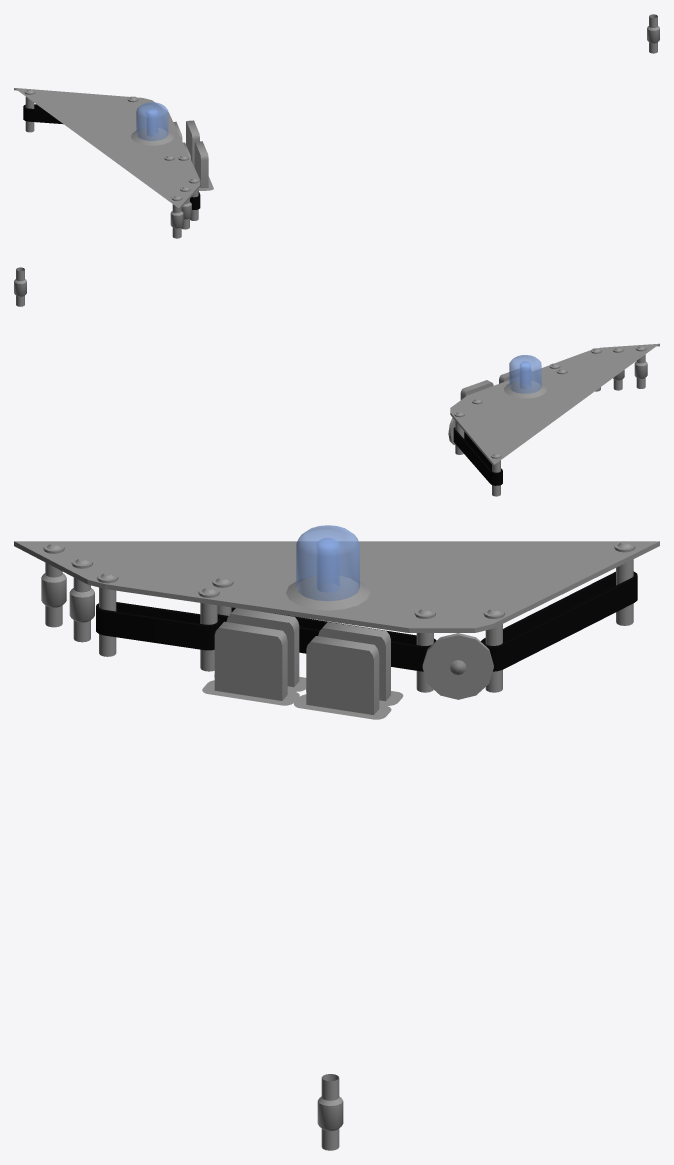
Rendered from Left Island.FBX.
3 views of the same model, one above another, from view 1: azimuth 30°, elevation 25°; view 2: azimuth 150°, elevation 25°; view 3: azimuth 270°, elevation 25° (orthographic). The views are drawn at different scales.
Visible parts, largest first — view 1: Left Island Cover, Strobe Light Cover, Strobe Light Base, Drop Target006, Rubber Rail007, Stopper Post003, Drop Target008, Stopper Post; view 2: Left Island Cover, Strobe Light Cover, Rubber Rail007, Strobe Light Base, Stopper Post003, Stopper Post; view 3: Left Island Cover, Rubber Rail007, Drop Target006, Drop Target008, Strobe Light Cover, Rubber Rail006, Shield Target003, Strobe Light Base, Rubber Rail008, Drop Target002, Drop Target004, Stopper Post003 (+3 smaller).
Part boxes in pixels (x1=…): Left Island Cover: x1=14, y1=88, x2=200, y2=210; Strobe Light Cover: x1=136, y1=102, x2=168, y2=140; Strobe Light Base: x1=131, y1=128, x2=173, y2=145; Drop Target006: x1=194, y1=141, x2=208, y2=188; Rubber Rail007: x1=23, y1=104, x2=63, y2=124; Stopper Post003: x1=647, y1=14, x2=659, y2=53; Drop Target008: x1=186, y1=120, x2=199, y2=167; Stopper Post: x1=170, y1=204, x2=183, y2=238; Left Island Cover: x1=450, y1=343, x2=659, y2=466; Strobe Light Cover: x1=509, y1=355, x2=541, y2=393; Rubber Rail007: x1=453, y1=427, x2=502, y2=485; Strobe Light Base: x1=504, y1=381, x2=546, y2=398; Stopper Post003: x1=14, y1=267, x2=26, y2=306; Stopper Post: x1=634, y1=354, x2=647, y2=388; Left Island Cover: x1=14, y1=541, x2=659, y2=632; Rubber Rail007: x1=480, y1=571, x2=637, y2=671; Drop Target006: x1=214, y1=621, x2=287, y2=700; Drop Target008: x1=306, y1=636, x2=379, y2=714; Strobe Light Cover: x1=296, y1=525, x2=359, y2=601; Rubber Rail006: x1=96, y1=602, x2=221, y2=650; Shield Target003: x1=422, y1=633, x2=493, y2=699; Strobe Light Base: x1=286, y1=575, x2=370, y2=610; Rubber Rail008: x1=217, y1=607, x2=436, y2=671; Drop Target002: x1=226, y1=608, x2=299, y2=686; Drop Target004: x1=318, y1=622, x2=390, y2=701; Stopper Post003: x1=317, y1=1074, x2=343, y2=1150.
Bounding box in the file's own units: 0.4804 × 0.055 × 0.2443.
